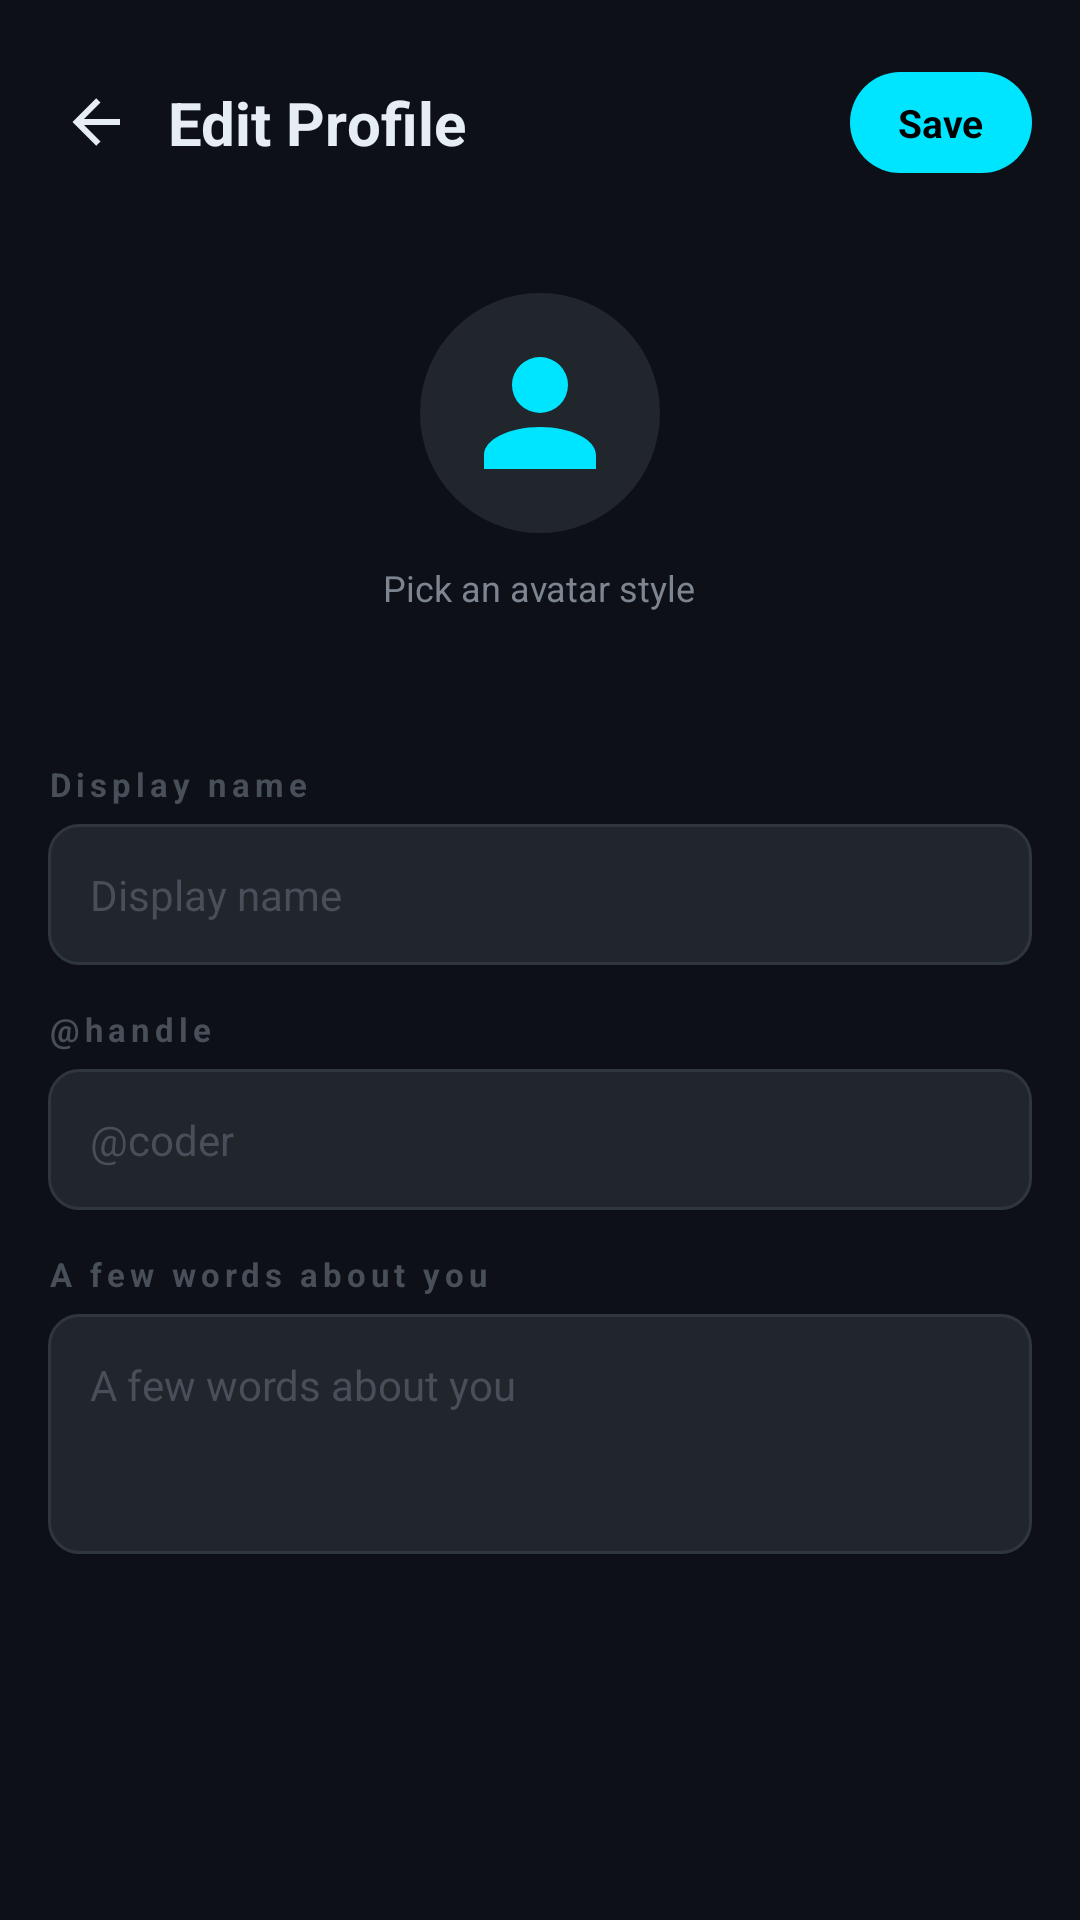

Point at icon controls on the screen. Image size 1080w x 1920h, points as point (x, y).
arrow back: point (96, 122)
